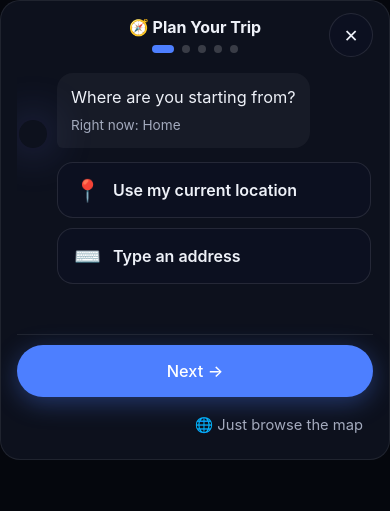
Test: Plan Your Trip wizard › saves answers as you go, so reopening resumes on the same step
Click the button "Next →". click: [195, 371]
box: [17,345,373,397]
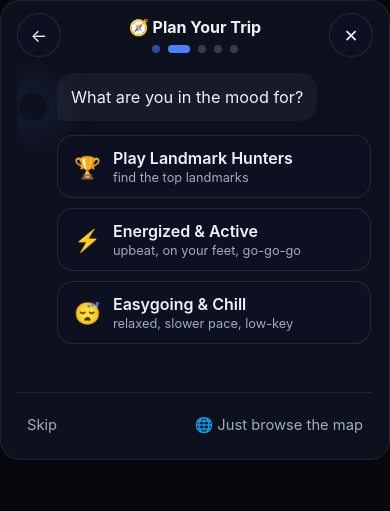
Click the button "⚡ Energized & Active upbeat, on your feet, go-go-go". click: [214, 240]
box: [57,208,371,272]
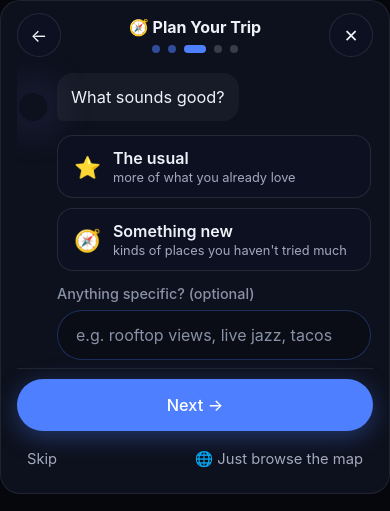
Now the text "What sounds good?" is shown, box [71,85,225,110]
Click the button named "Back". click: [39, 35]
box: [17,13,61,57]
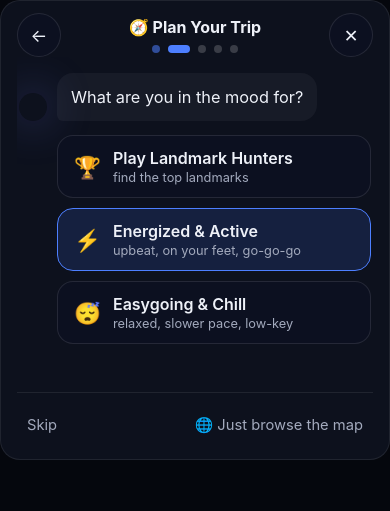
Now the button with class "selected" shows "Energized & Active", box [57,208,371,272]
